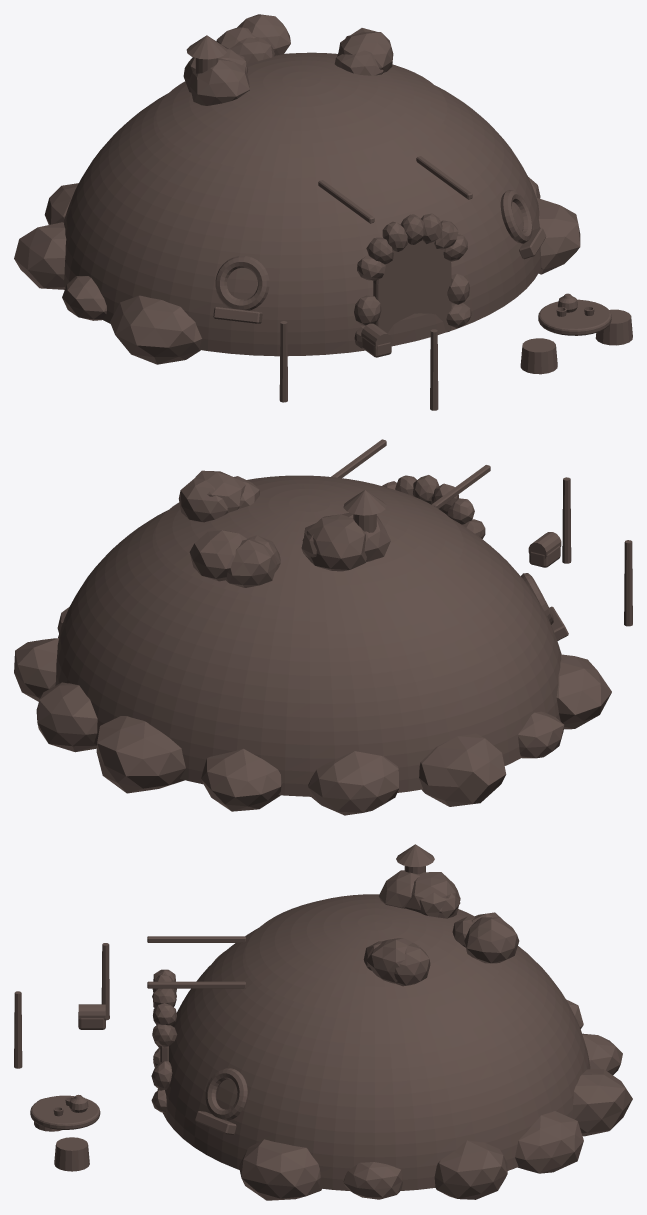
File: hachiCave.ol.glb
3 renders of one model, top to bottom at view 1: azimuth 30°, elevation 25°; view 2: azimuth 150°, elevation 25°; view 3: azimuth 270°, elevation 25°, orthographic. The views are drawn at different scales.
Visible parts, largest first — view 1: outline; view 2: outline; view 3: outline.
Part boxes in pixels (left/top/right/bottom): outline: left=14, top=14, right=632, bottom=410; outline: left=14, top=439, right=632, bottom=815; outline: left=14, top=844, right=632, bottom=1200.
Size of the model in its own units: 15.26 by 7.62 by 18.39.
